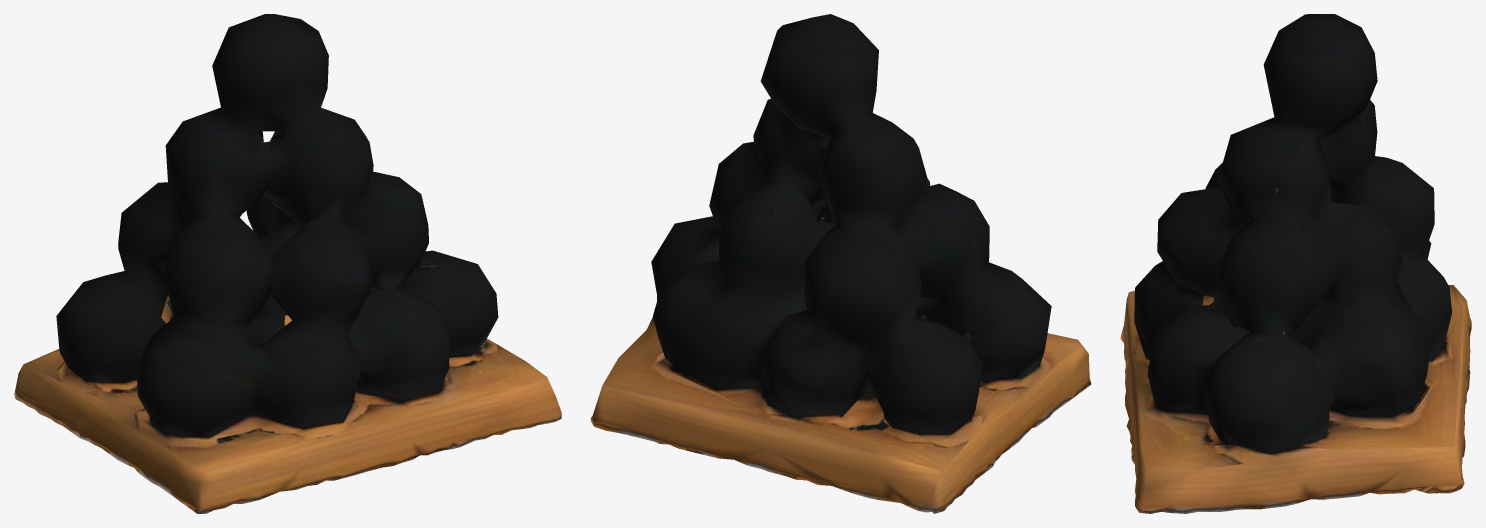
The model's file is prop_cannonball_pyramid.glb.
3 views of the same model, side by side, from view 1: azimuth 30°, elevation 25°; view 2: azimuth 150°, elevation 25°; view 3: azimuth 270°, elevation 25° (orthographic). The views are drawn at different scales.
Visible parts, largest first — view 1: geometry_0; view 2: geometry_0; view 3: geometry_0.
Part boxes in pixels (x1,y1,x2,y2): geometry_0: [14, 14, 561, 513]; geometry_0: [590, 14, 1091, 513]; geometry_0: [1120, 14, 1471, 513].
Size of the model in its own units: 0.9647 by 0.9106 by 0.7334.
1 material, 1 textured.
